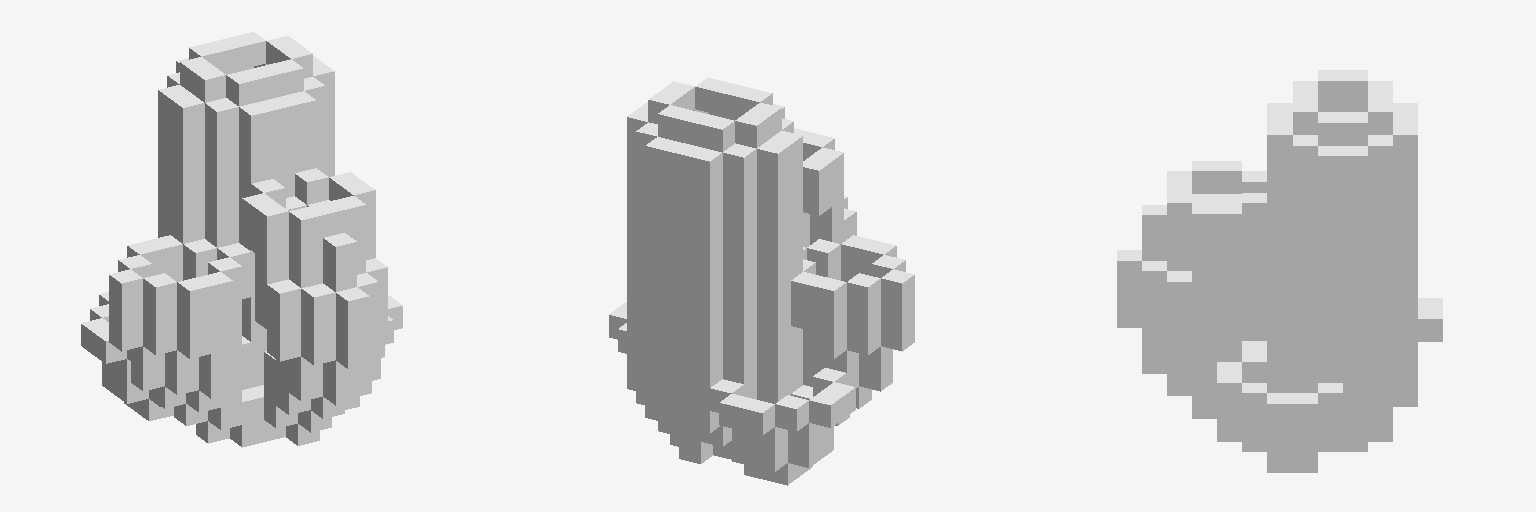
Rendered from BlueTubularCoralSmallCluster-0.obj.
The picture shows the model from 3 angles: view 1: azimuth 30°, elevation 25°; view 2: azimuth 150°, elevation 25°; view 3: azimuth 270°, elevation 25°; orthographic projection.
Parts seen in each view (by area): view 1: object 1; view 2: object 1; view 3: object 1.
Boxes of the visible parts, box(x1,y1,x2,y2) form: object 1: box(81, 32, 402, 447); object 1: box(609, 78, 914, 485); object 1: box(1117, 70, 1442, 472).
Size of the model in its own units: 1.3 by 1.5 by 1.3.